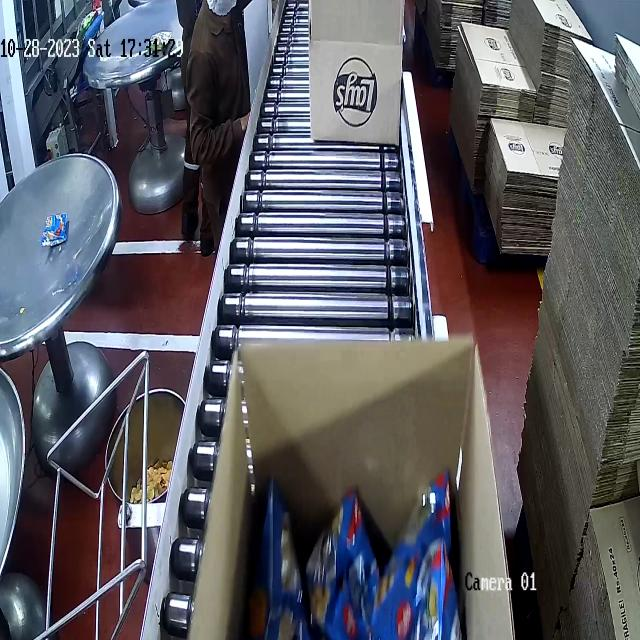PAPRIKA: (253, 471, 478, 640)
